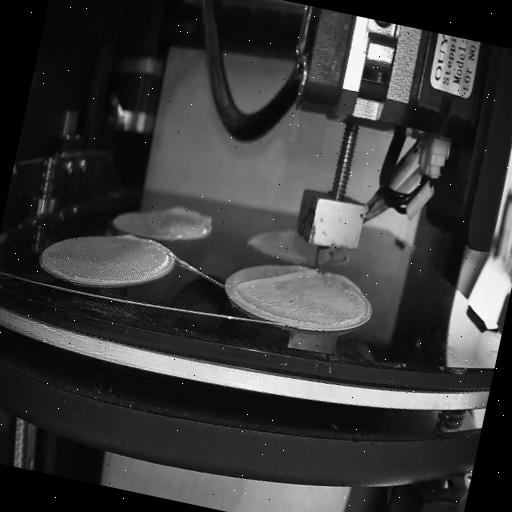over_extrusion: (236, 253, 314, 305), (162, 201, 216, 229), (324, 268, 362, 296), (116, 227, 140, 243)
